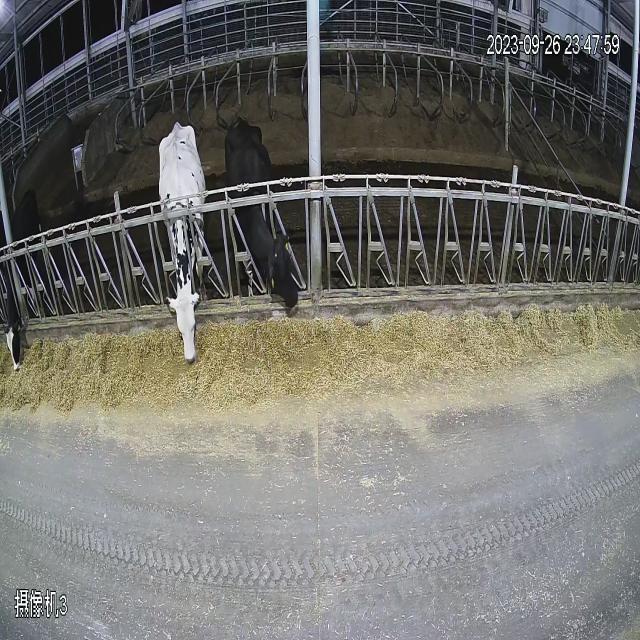feeding: (148, 115, 218, 398), (2, 191, 58, 403)
standing: (224, 83, 318, 343)
